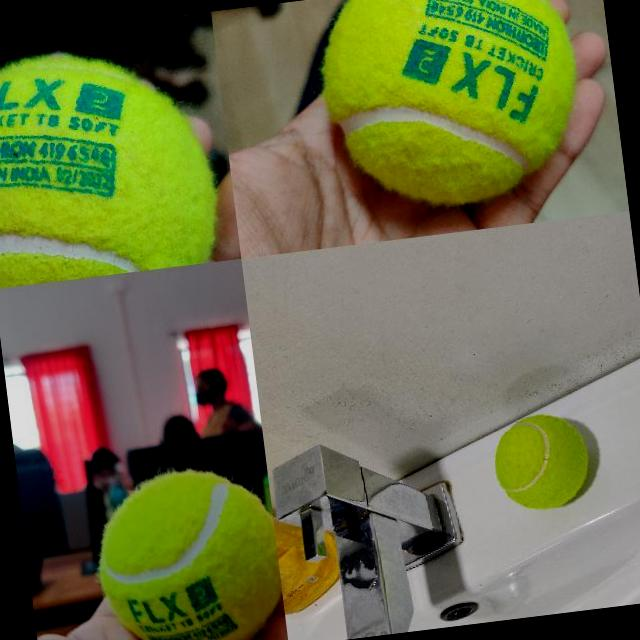Tennis Ball: (313, 0, 588, 217), (0, 38, 222, 287), (87, 461, 287, 640), (488, 408, 594, 514)
